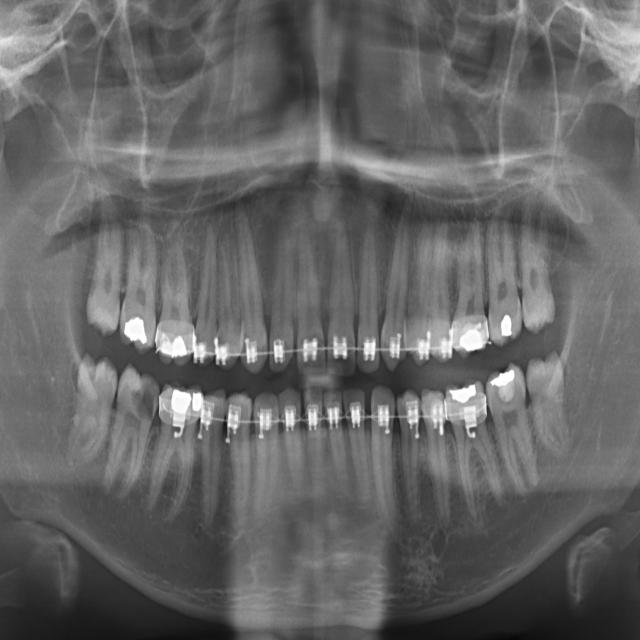AmalgamRestoration: (122, 311, 148, 349), (493, 361, 518, 392), (171, 384, 191, 422), (456, 328, 487, 352), (445, 382, 479, 403), (170, 332, 188, 358), (192, 383, 204, 413), (502, 308, 513, 339)
DentalCaries: (131, 369, 160, 427), (488, 388, 508, 418)
ImpactedTooth: (525, 352, 574, 459), (72, 355, 116, 467)
